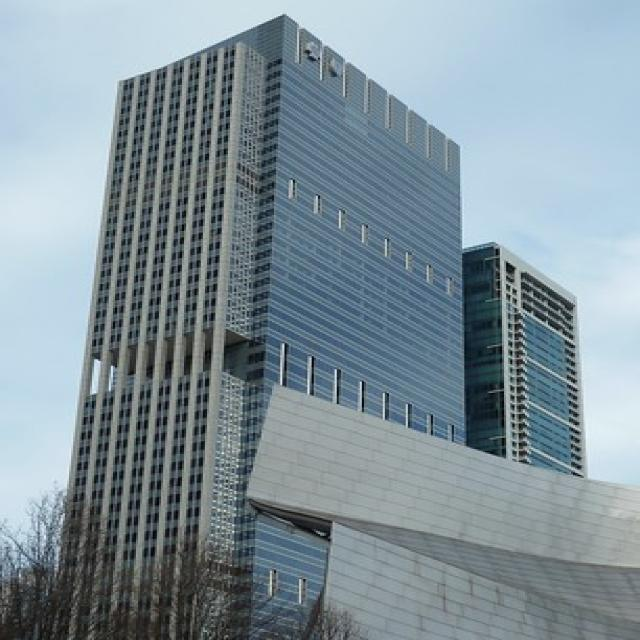building: (47, 8, 478, 640)
